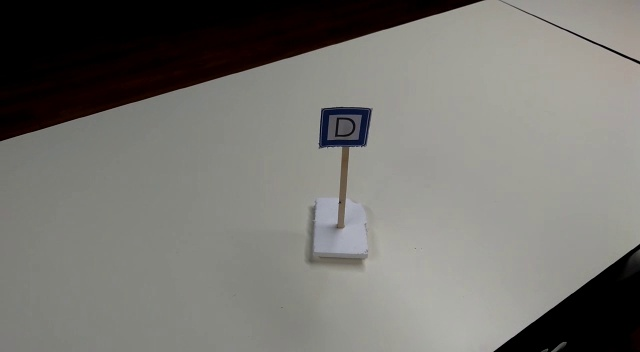durak: (317, 106, 372, 148)
